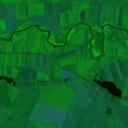alloviz: (91, 77, 123, 99), (1, 74, 15, 84)
